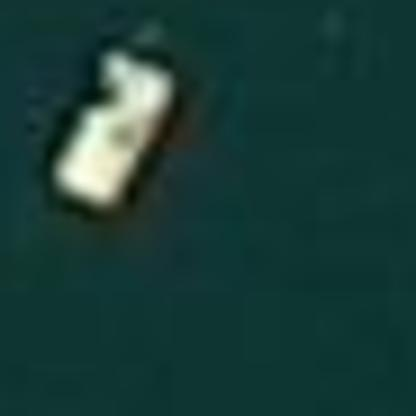ship: (37, 35, 190, 227)
